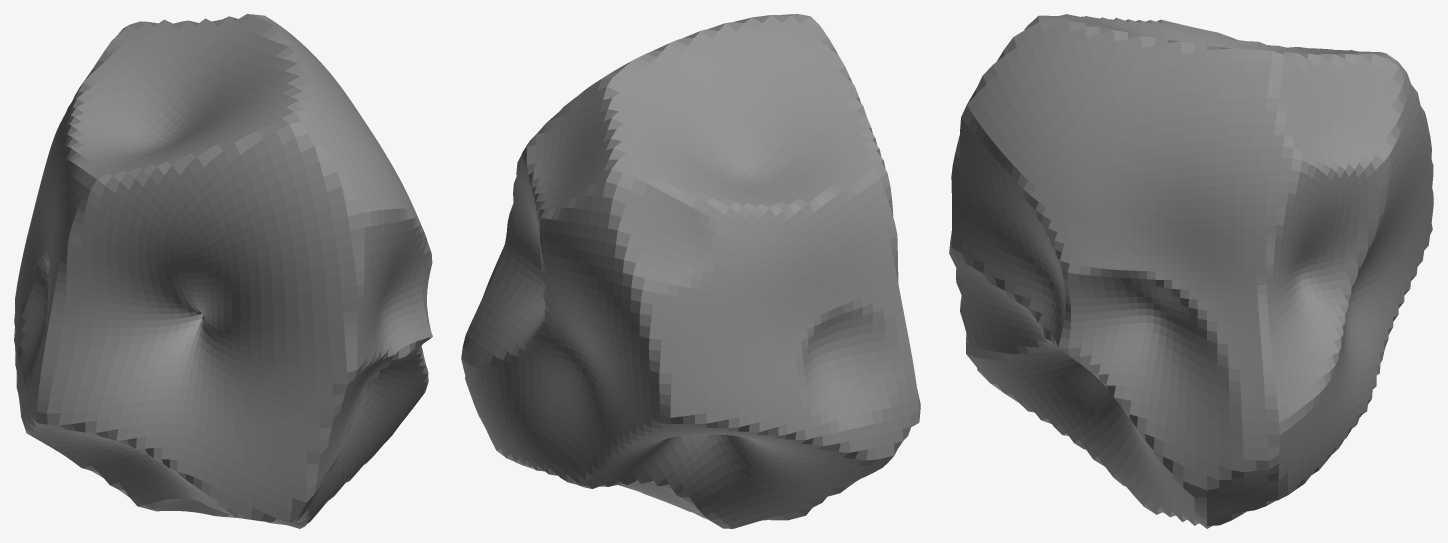
Rendered from stone1.fbx.
3 views of the same model, side by side, from view 1: azimuth 30°, elevation 25°; view 2: azimuth 150°, elevation 25°; view 3: azimuth 270°, elevation 25° (orthographic).
Parts seen in each view (by area): view 1: Cube.002; view 2: Cube.002; view 3: Cube.002.
Part boxes in pixels (x1,y1,x2,y2): Cube.002: [14, 14, 432, 528]; Cube.002: [461, 14, 920, 528]; Cube.002: [949, 14, 1433, 528].
Bounding box in the file's own units: 195 × 215 × 200.
1 material, 1 textured.
